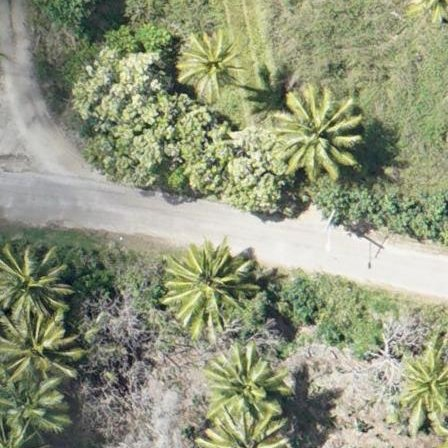palm_tree: (157, 242, 254, 340), (271, 82, 363, 181), (209, 346, 282, 423), (1, 244, 62, 327), (1, 322, 71, 387), (177, 33, 245, 98), (391, 346, 448, 423), (210, 402, 288, 448), (437, 447, 448, 448)
